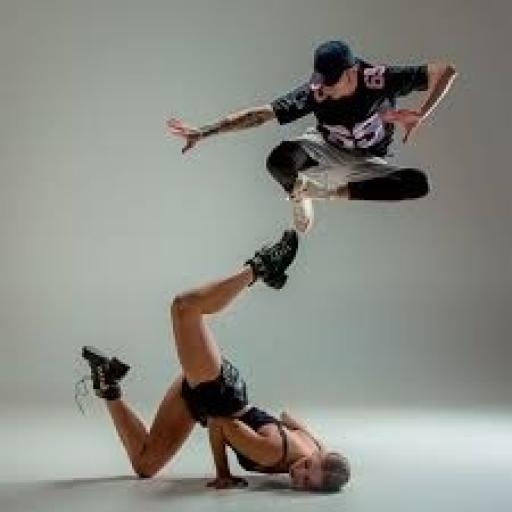dancing: (75, 228, 355, 496), (164, 36, 462, 236)
